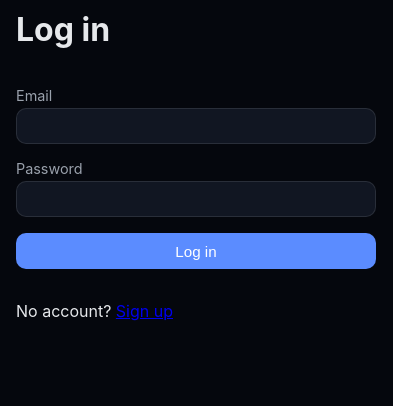
Test: Login › shows the error and stays on the page when credentials are wrong
This screenshot has width=393, height=406.
In the field labelled "Email": x=196, y=126 [16, 108, 376, 144], type "a@b.com"
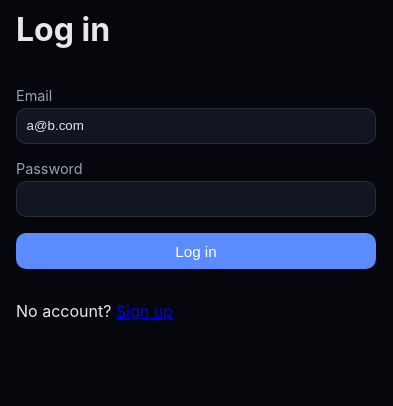
In the password field labelled "Password": x=196, y=199 [16, 181, 376, 217], type "secret1"
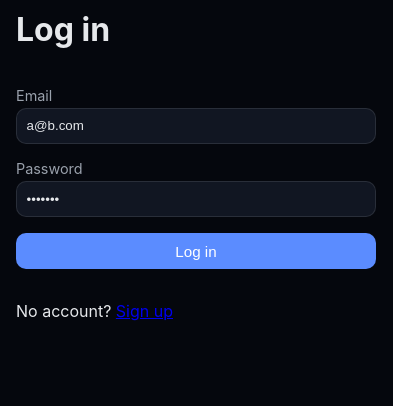
Click the button "Log in": x=196, y=251 [16, 233, 376, 270]
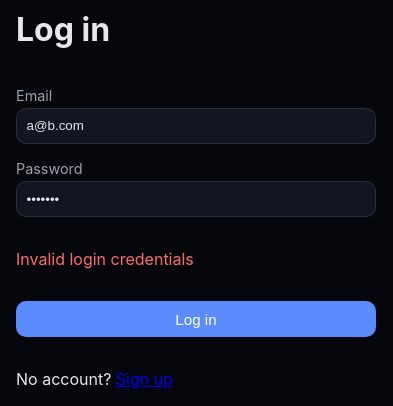
Expected: the text "Invalid login credentials" is shown, [16, 249, 194, 269]
